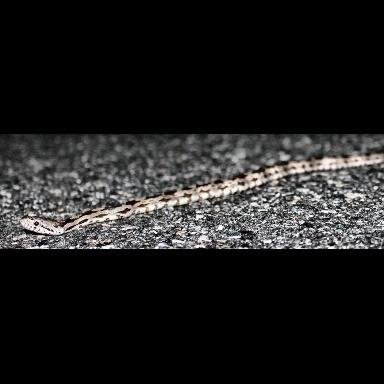snake: (20, 153, 375, 236)
